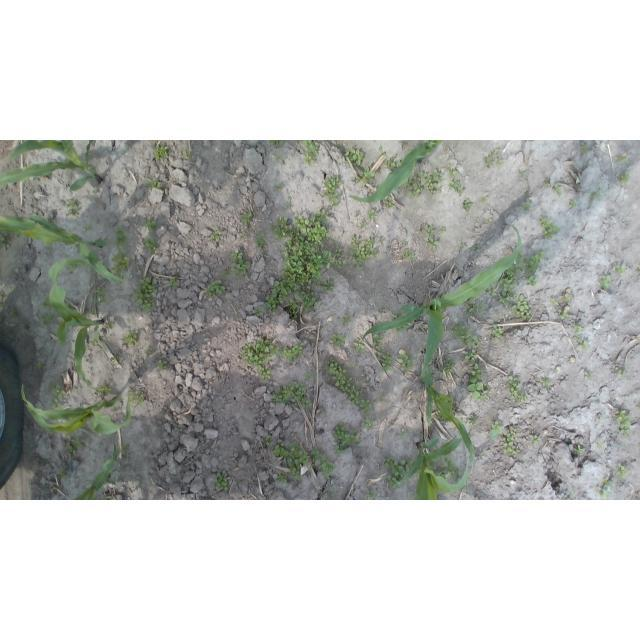Maize: (362, 226, 523, 377), (0, 211, 124, 285), (41, 259, 108, 394), (419, 360, 475, 465), (350, 141, 443, 204), (20, 383, 131, 434), (396, 429, 472, 500), (0, 140, 102, 192), (69, 438, 119, 500)
Weeds: (279, 233, 335, 288), (325, 356, 360, 404), (295, 209, 331, 246), (241, 336, 281, 368), (384, 456, 421, 488), (272, 380, 312, 408), (349, 236, 379, 268), (264, 280, 292, 313), (332, 424, 361, 455), (467, 364, 491, 401), (131, 277, 157, 311), (288, 444, 310, 481), (498, 266, 518, 306), (322, 176, 341, 209), (110, 250, 132, 278), (419, 169, 441, 196), (294, 286, 317, 311), (230, 248, 250, 276), (269, 217, 293, 240), (502, 427, 521, 455), (439, 457, 463, 479), (452, 323, 472, 346), (616, 409, 633, 436), (512, 295, 530, 320), (359, 398, 373, 430), (281, 343, 304, 362), (540, 217, 559, 240), (303, 141, 320, 166), (405, 176, 423, 199), (524, 252, 544, 272), (343, 148, 365, 166), (64, 436, 85, 454), (204, 280, 225, 298), (47, 381, 66, 400), (465, 299, 484, 317), (484, 147, 502, 166), (504, 376, 520, 397), (113, 227, 128, 249), (357, 167, 376, 184), (440, 358, 457, 376), (383, 156, 401, 173), (377, 353, 393, 372), (319, 461, 335, 480), (310, 446, 327, 463), (573, 334, 590, 351), (127, 389, 145, 405), (153, 144, 169, 162), (398, 353, 413, 372), (490, 420, 505, 438), (215, 473, 229, 492), (40, 313, 59, 326), (372, 331, 384, 351), (144, 216, 159, 232), (254, 233, 268, 250), (273, 443, 288, 458), (448, 180, 464, 194), (331, 333, 346, 347), (257, 365, 271, 380), (123, 331, 138, 345), (143, 238, 157, 253), (66, 199, 80, 214), (1, 231, 12, 250), (239, 212, 253, 226), (600, 275, 613, 290), (463, 350, 476, 365), (491, 324, 503, 340), (95, 287, 105, 306), (146, 178, 163, 189), (446, 164, 458, 179), (321, 280, 336, 292), (290, 299, 299, 318), (557, 306, 569, 320), (352, 339, 364, 353), (601, 477, 615, 489), (616, 464, 628, 478), (594, 185, 605, 200), (97, 384, 112, 395), (426, 236, 438, 249), (516, 252, 523, 274), (276, 471, 288, 483), (40, 296, 51, 309), (169, 275, 180, 288), (526, 273, 537, 286), (396, 322, 410, 332), (268, 140, 285, 148), (364, 491, 379, 500), (619, 171, 630, 183), (520, 201, 532, 212), (403, 250, 415, 261), (210, 228, 220, 241), (423, 224, 434, 235), (57, 469, 69, 479), (367, 209, 377, 220), (252, 307, 263, 317), (156, 360, 168, 369), (464, 198, 473, 210), (336, 260, 348, 269), (384, 196, 393, 208), (616, 369, 629, 377), (517, 393, 527, 403), (51, 399, 61, 409), (574, 444, 584, 454), (540, 378, 550, 388), (488, 286, 497, 297), (573, 323, 584, 332), (553, 185, 562, 196), (10, 308, 18, 320), (35, 361, 47, 369), (472, 336, 479, 349), (562, 293, 571, 303), (616, 264, 625, 274), (530, 436, 540, 445), (263, 436, 271, 447), (343, 316, 352, 325), (335, 248, 344, 257), (66, 263, 76, 271), (121, 444, 129, 453), (596, 487, 604, 496), (287, 196, 292, 209), (550, 298, 558, 306), (88, 307, 96, 315), (580, 144, 588, 152), (568, 200, 576, 208), (480, 196, 488, 204), (586, 372, 593, 381), (472, 245, 481, 252), (104, 322, 112, 329), (304, 374, 312, 381), (20, 323, 29, 329), (520, 170, 529, 176), (145, 349, 152, 356), (378, 146, 384, 154), (401, 428, 407, 436), (106, 494, 114, 500), (467, 419, 473, 426), (620, 156, 627, 162), (276, 155, 283, 161), (84, 226, 91, 232), (597, 441, 603, 448), (1, 288, 4, 300), (487, 218, 493, 224), (239, 233, 245, 239), (184, 150, 190, 156), (440, 227, 446, 233), (544, 180, 551, 185), (82, 314, 88, 319), (589, 198, 595, 203), (274, 184, 280, 189), (462, 244, 467, 250), (481, 452, 488, 456), (112, 356, 117, 361), (401, 241, 406, 246), (354, 212, 359, 217), (380, 397, 385, 402)
